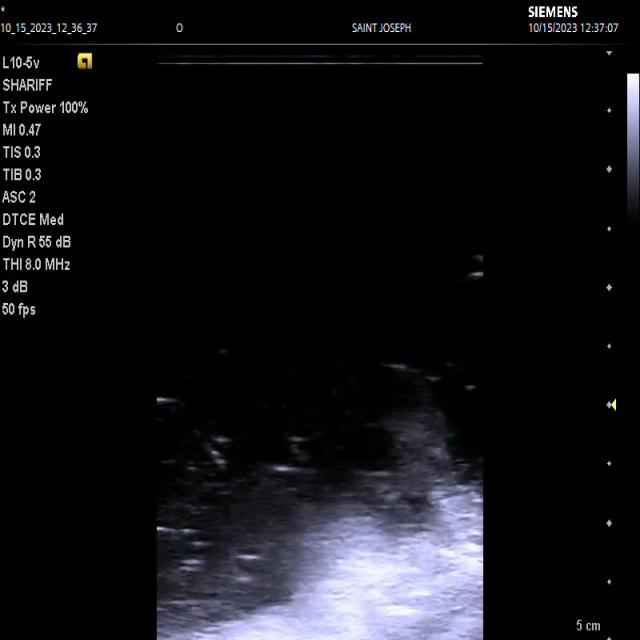tissue: (215, 485, 483, 640)
